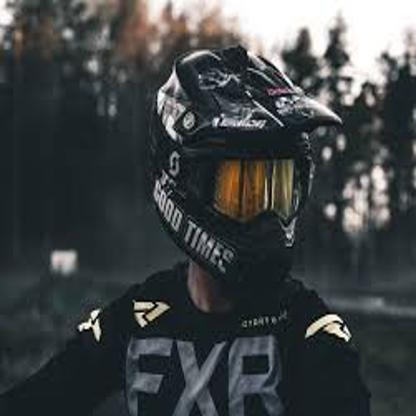not trash: (151, 46, 343, 314)
